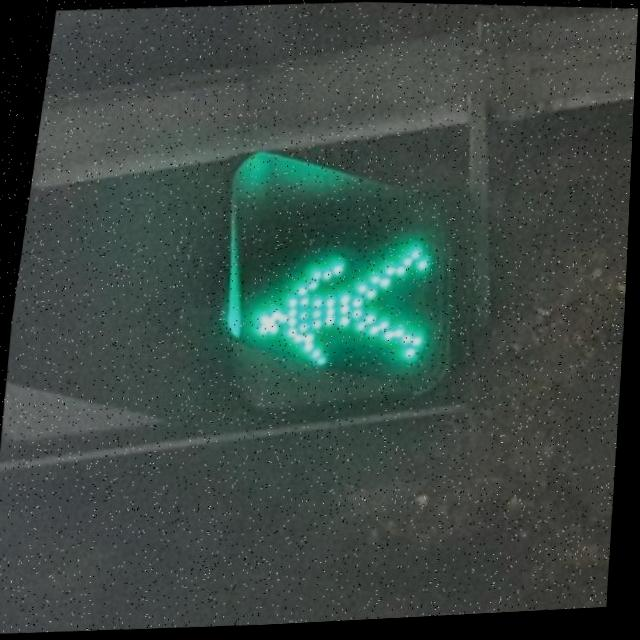green_light: (234, 212, 450, 392)
